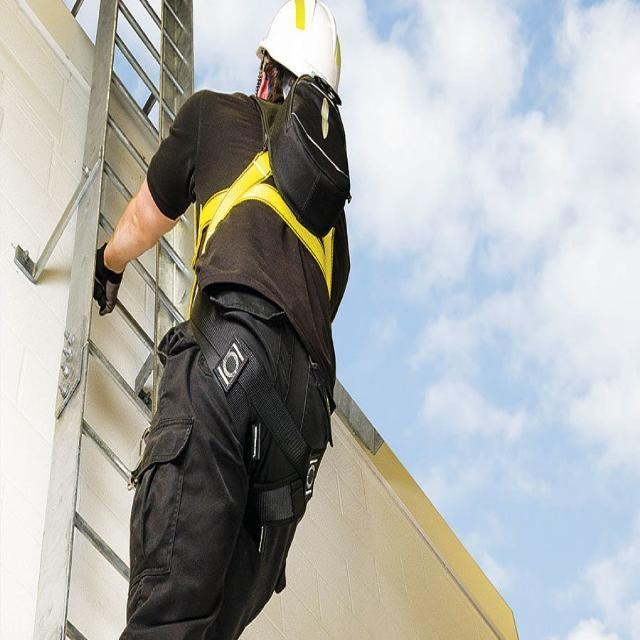Arnes_seguridad: (192, 87, 341, 525)
